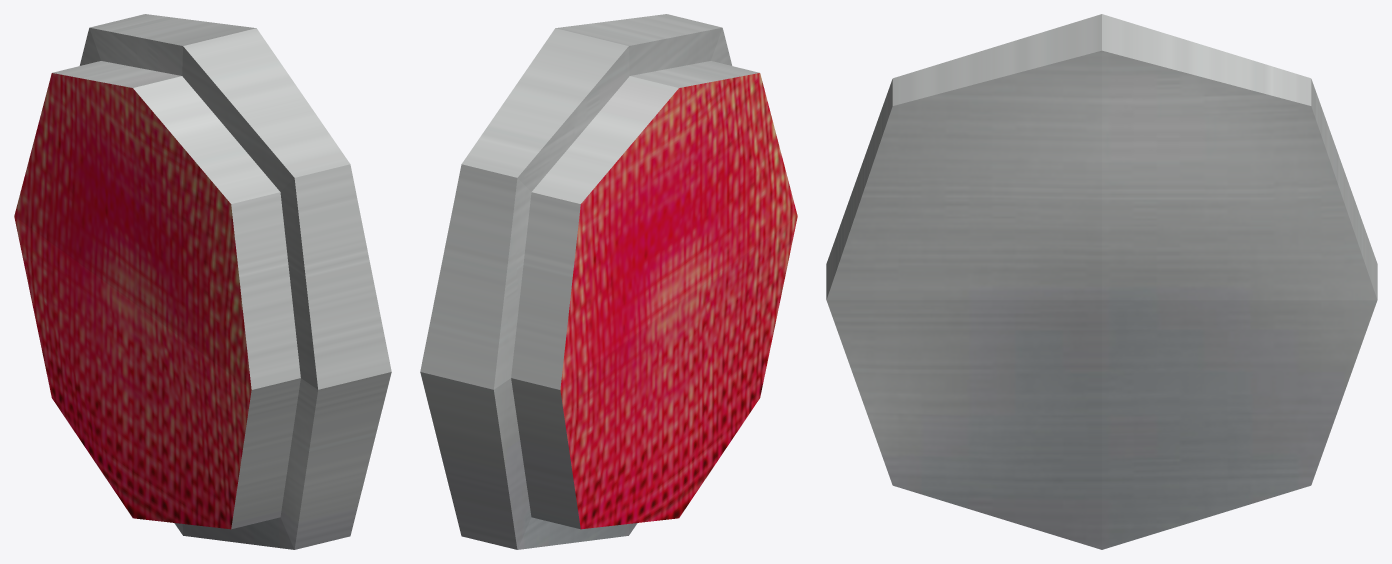
Rendered from light.fbx.
The picture shows the model from 3 angles, left to right: view 1: azimuth 30°, elevation 25°; view 2: azimuth 150°, elevation 25°; view 3: azimuth 270°, elevation 25°; orthographic projection.
Visible parts, largest first — view 1: Cube.003; view 2: Cube.003; view 3: Cube.003.
Boxes of the visible parts, x1,y1,x2,y2 form: Cube.003: [14, 14, 391, 549]; Cube.003: [420, 14, 797, 549]; Cube.003: [826, 14, 1377, 549].
Size of the model in its own units: 0.529 by 2 by 2.
1 material, 1 textured.
